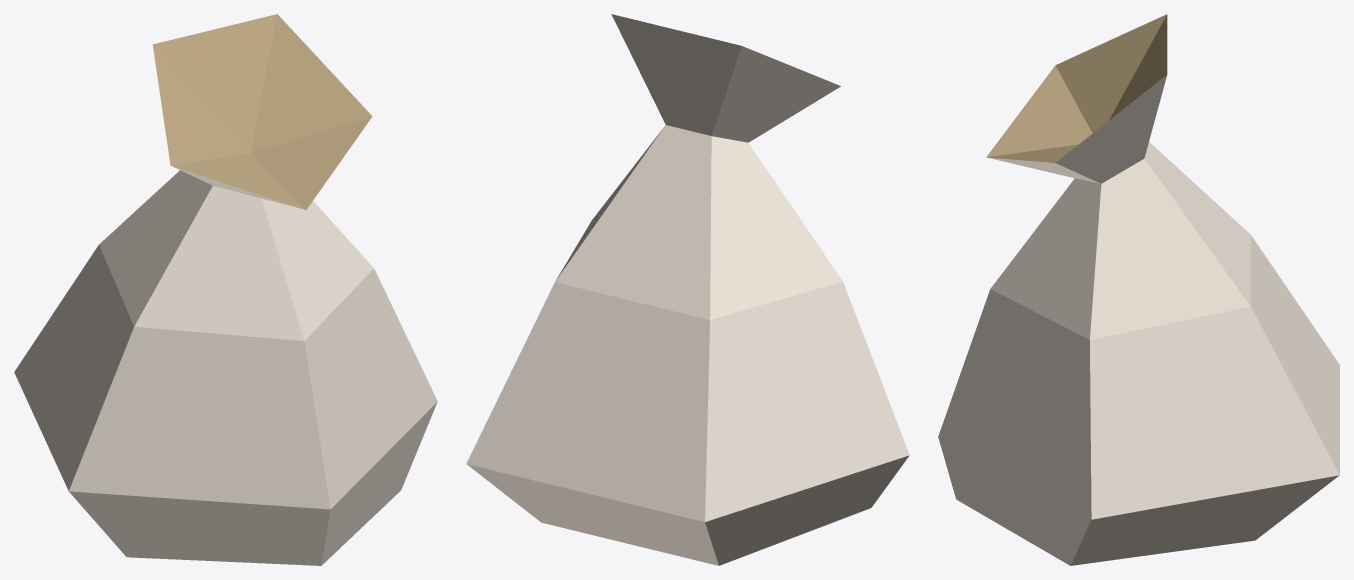
Rendered from TB_D_Prop_Sack_B.FBX.
3 renders of one model, left to right at view 1: azimuth 30°, elevation 25°; view 2: azimuth 150°, elevation 25°; view 3: azimuth 270°, elevation 25°, orthographic. The views are drawn at different scales.
Parts seen in each view (by area): view 1: TB_D_Prop_Sack_B; view 2: TB_D_Prop_Sack_B; view 3: TB_D_Prop_Sack_B.
Boxes of the visible parts, x1,y1,x2,y2 form: TB_D_Prop_Sack_B: (14, 14, 437, 565); TB_D_Prop_Sack_B: (466, 14, 909, 565); TB_D_Prop_Sack_B: (938, 14, 1339, 565).
Bounding box in the file's own units: 0.7658 × 0.9099 × 0.7276.
